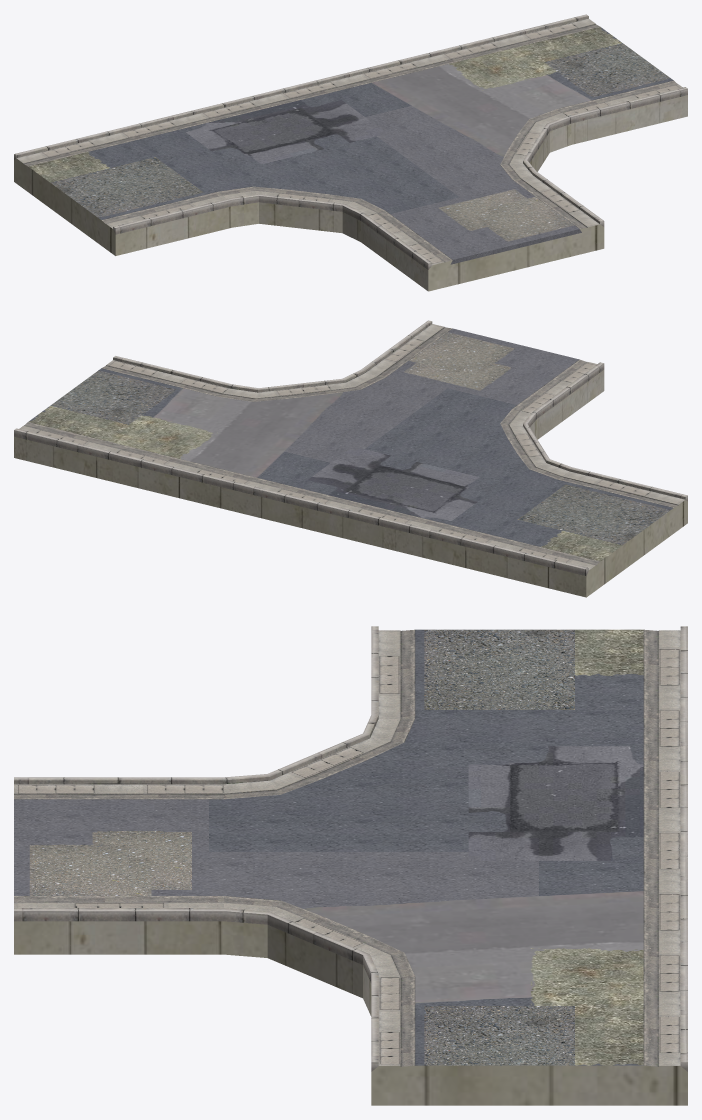
The model's file is road_c1_t2.fbx.
3 renders of one model, top to bottom at view 1: azimuth 30°, elevation 25°; view 2: azimuth 150°, elevation 25°; view 3: azimuth 270°, elevation 25°, orthographic. The views are drawn at different scales.
Parts seen in each view (by area): view 1: road_c1_t2; view 2: road_c1_t2; view 3: road_c1_t2.
Part boxes in pixels (x1=…): road_c1_t2: x1=14, y1=14, x2=687, y2=291; road_c1_t2: x1=14, y1=320, x2=687, y2=597; road_c1_t2: x1=14, y1=626, x2=687, y2=1105.
Bounding box in the file's own units: 1400 × 65 × 915.
